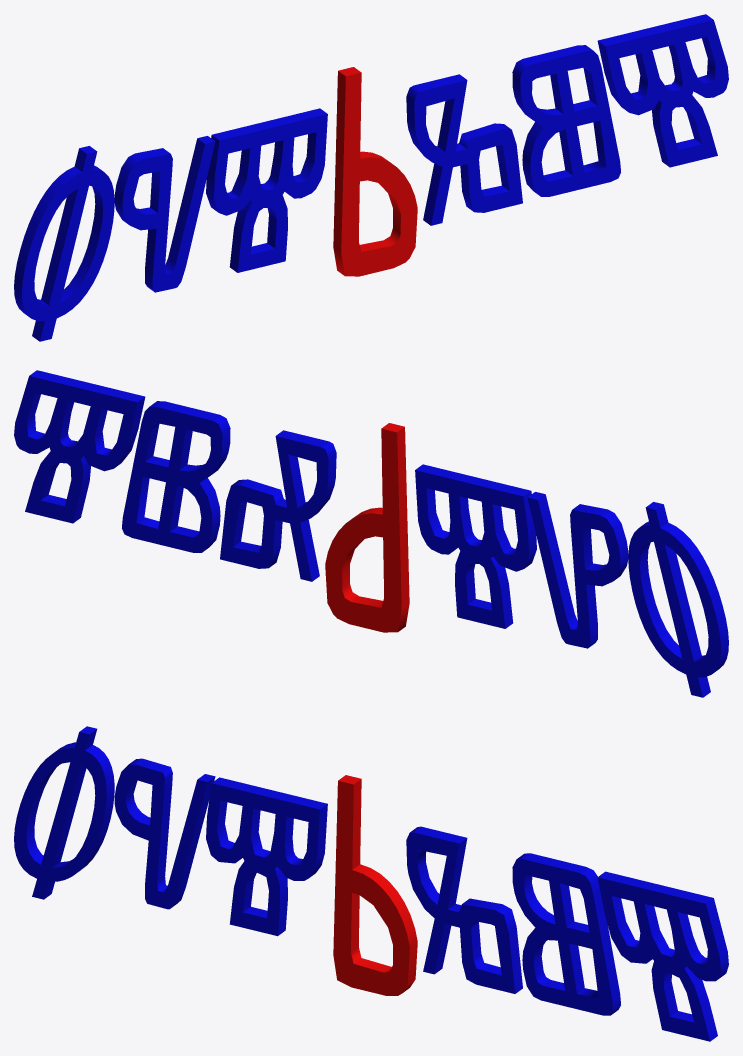
The model's file is Text_sign_11.fbx.
3 renders of one model, top to bottom at view 1: azimuth 30°, elevation 25°; view 2: azimuth 150°, elevation 25°; view 3: azimuth 330°, elevation 25°, orthographic.
Parts seen in each view (by area): view 1: Text_sign_11; view 2: Text_sign_11; view 3: Text_sign_11.
Boxes of the visible parts, left/top/right/bottom form: Text_sign_11: left=14, top=14, right=728, bottom=341; Text_sign_11: left=14, top=370, right=728, bottom=697; Text_sign_11: left=14, top=726, right=728, bottom=1041.
Size of the model in its own units: 156 by 42.99 by 3.02.
